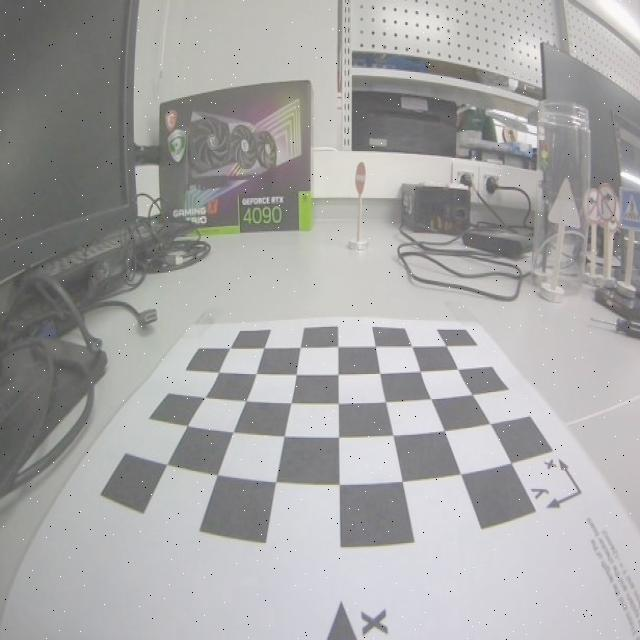Dilarang Belok Kanan: (356, 162, 366, 193)
